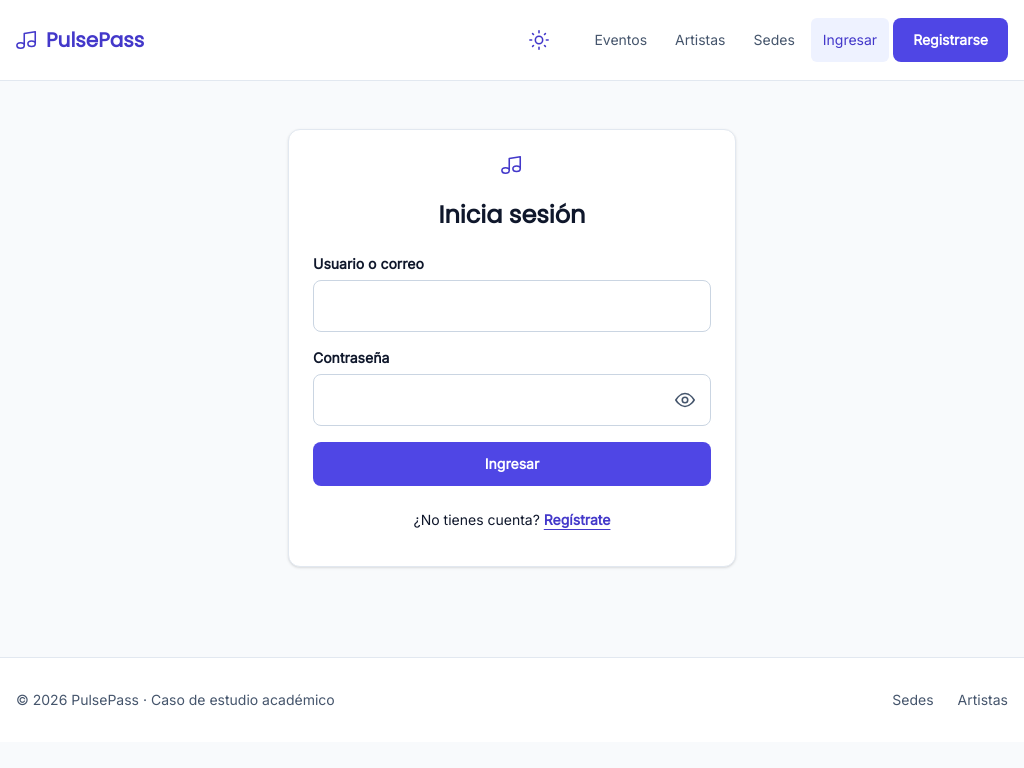
Scenario: TEST-FE-AUTH-002 login 401 genérico
Type "andrea" into the field labelled "Usuario o correo" at {"x": 512, "y": 306}, box [313,280,711,332]
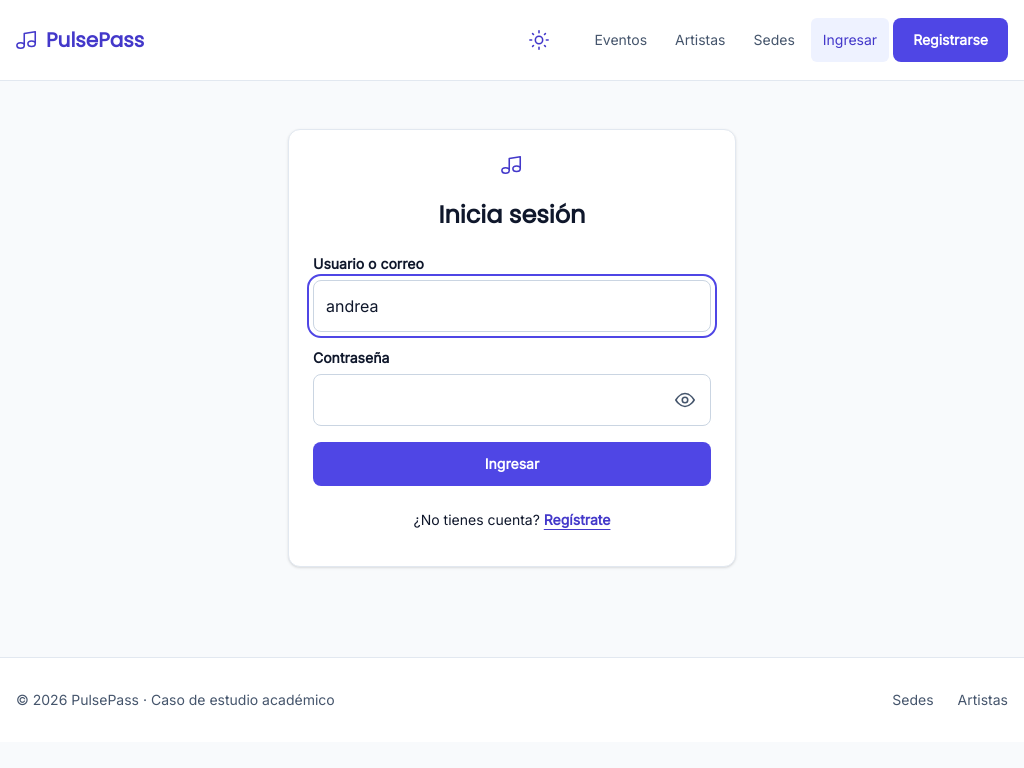
Type "UnaFraseLarga2026!" into the password field labelled "Contraseña" at {"x": 512, "y": 400}, box [313,374,711,426]
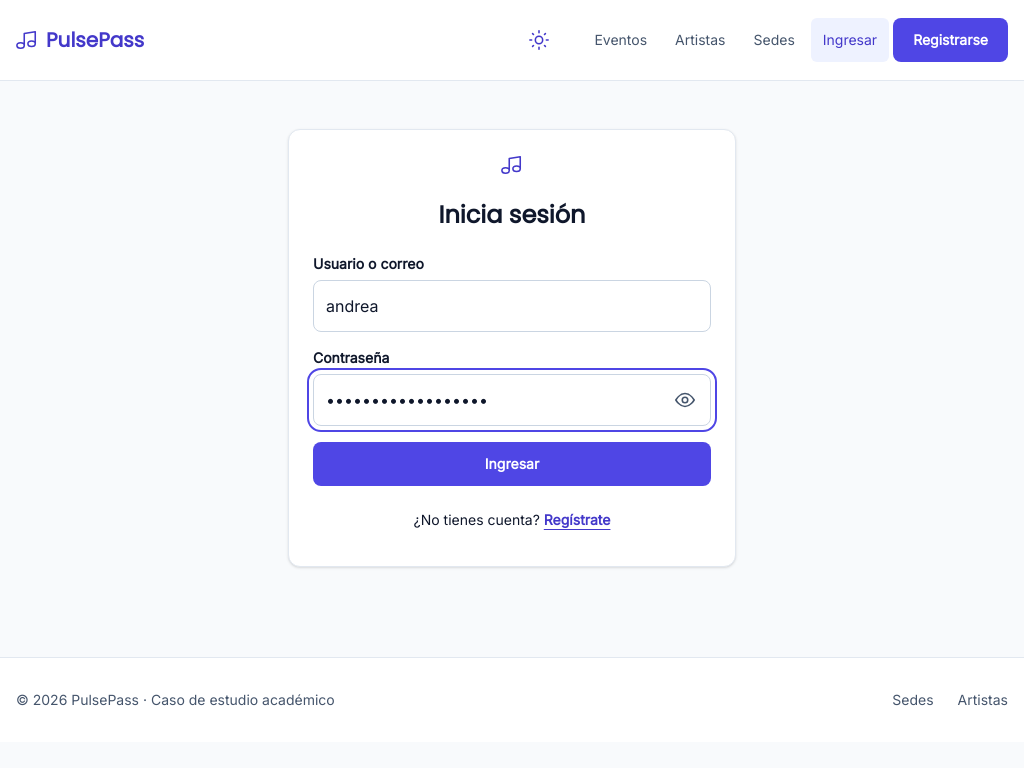
Click the button "Ingresar" at {"x": 512, "y": 464}, box [313,442,711,486]
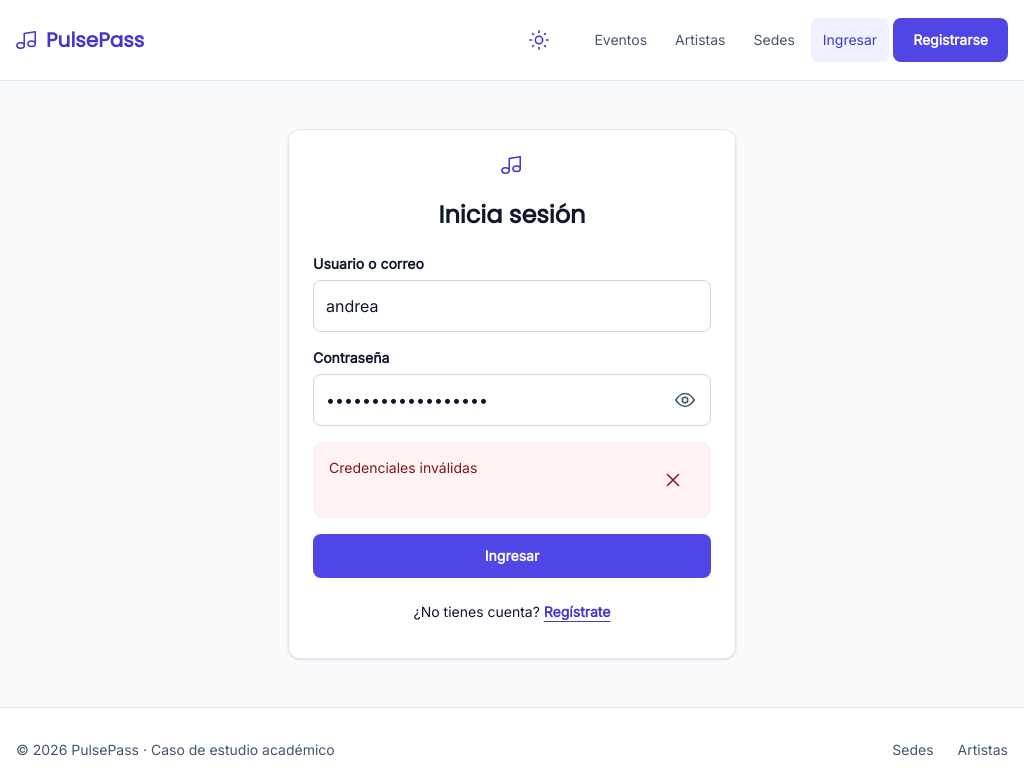
Expected: the text "Credenciales inválidas" is shown, [329,458,477,478]
